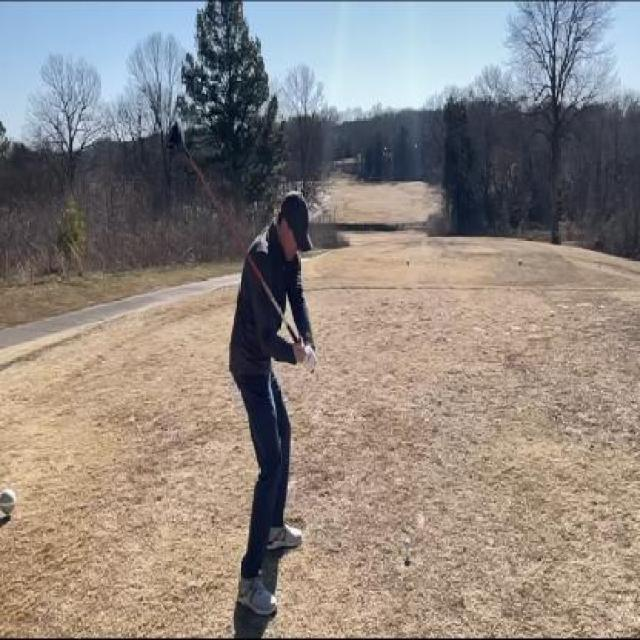club head: (170, 113, 193, 162)
